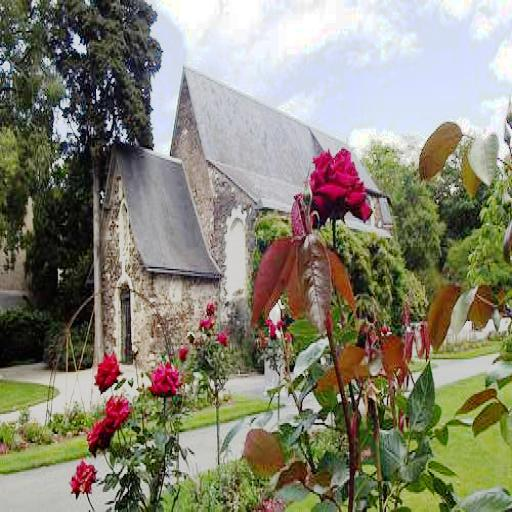rose: (311, 144, 369, 214), (148, 358, 182, 400), (85, 421, 118, 454), (103, 394, 131, 427), (93, 349, 119, 383)
